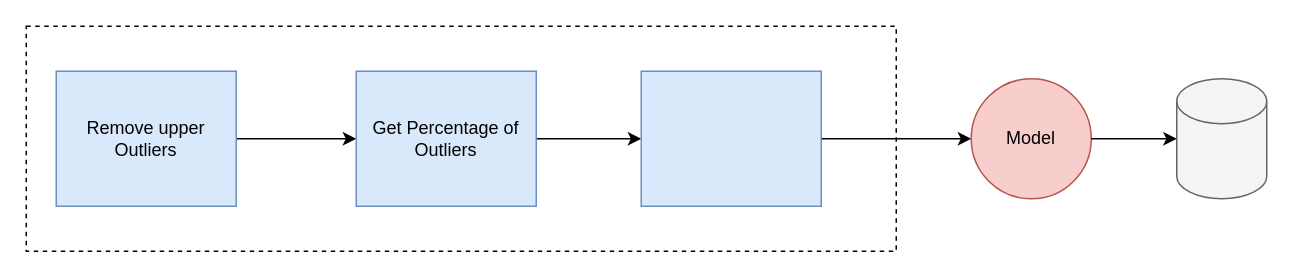
Image size: 1293x278. Some labels were removed from this diagram. The centre of each missing label's shape, as x and y in pixels:
Create Isolation Forest Model: [730,138]
Store Model: [1221,138]
